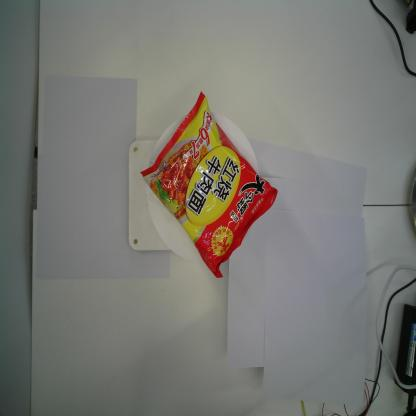Instant Noodles: (139, 90, 280, 279)
